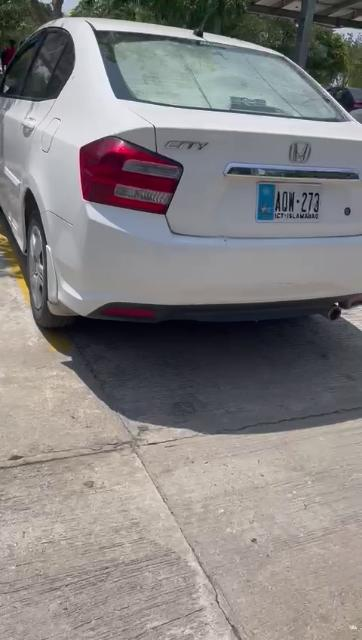plate: (255, 180, 322, 226)
